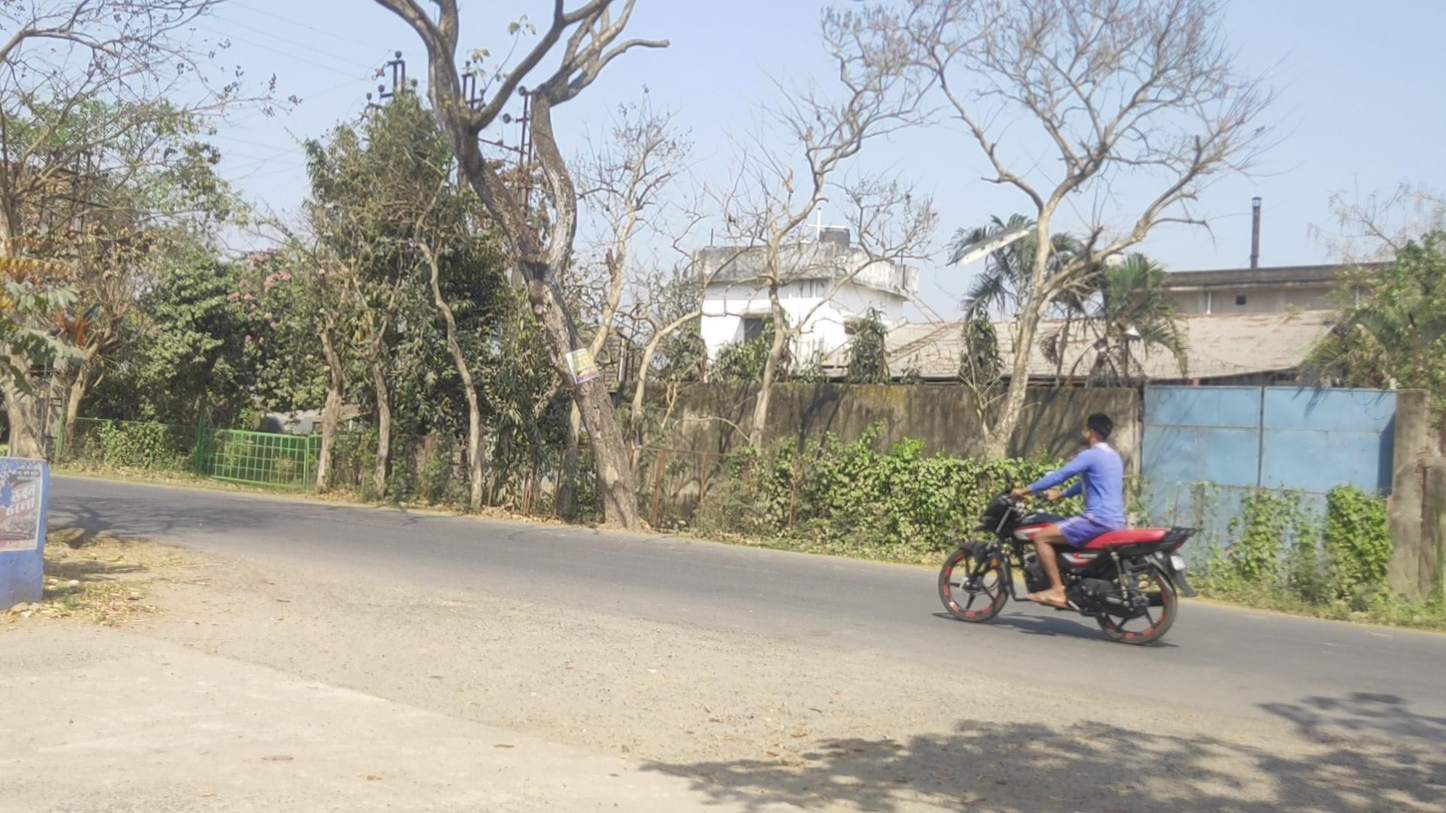bike: (938, 413, 1198, 646)
